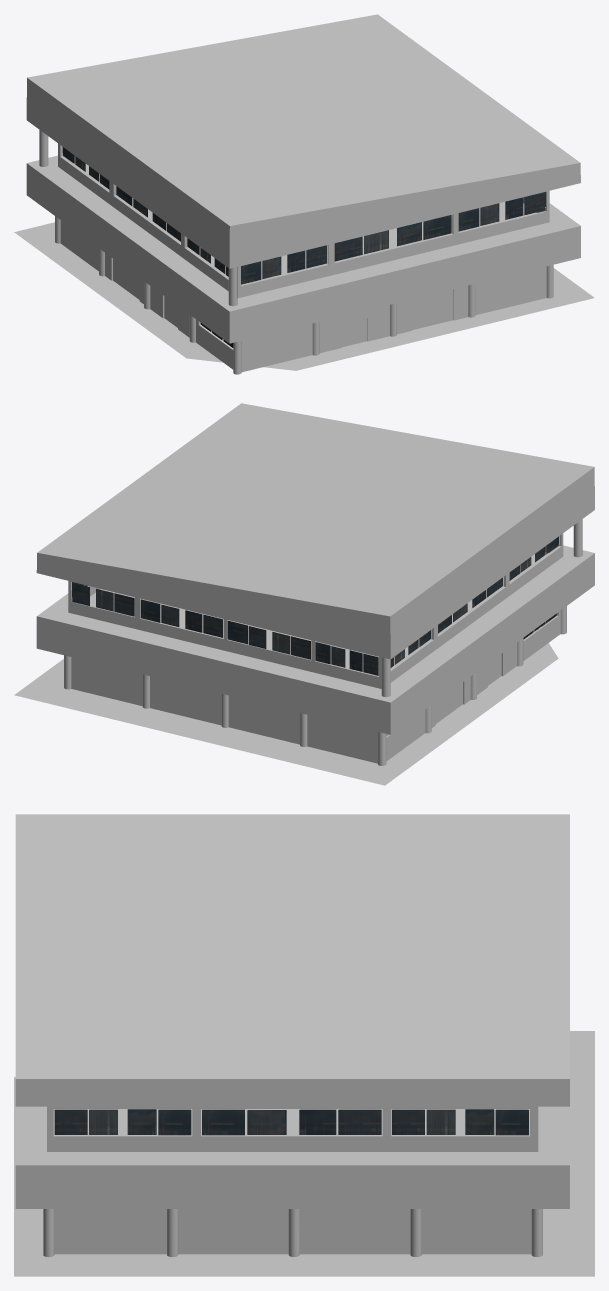
3 views of the same model, one above another, from view 1: azimuth 30°, elevation 25°; view 2: azimuth 150°, elevation 25°; view 3: azimuth 270°, elevation 25° (orthographic). The views are drawn at different scales.
Visible parts, largest first — view 1: EB-007; view 2: EB-007; view 3: EB-007.
Part boxes in pixels (bbox=[...]): EB-007: bbox=[14, 14, 594, 374]; EB-007: bbox=[14, 403, 594, 785]; EB-007: bbox=[14, 814, 594, 1276].
Size of what is drawn, in the model's own units: 36 by 14.98 by 36.
